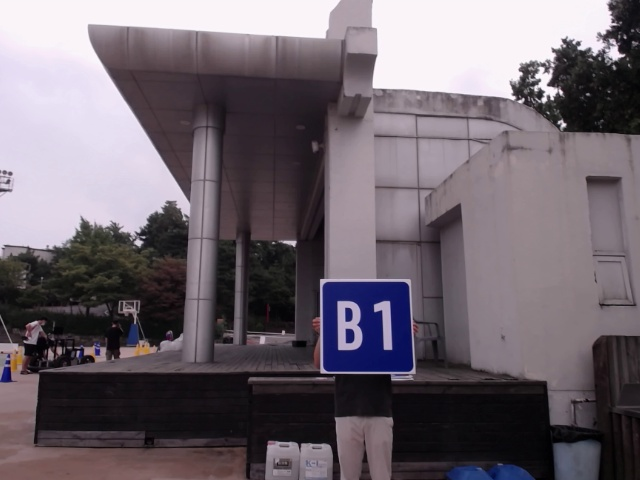delivery_b1: (319, 279, 415, 374)
